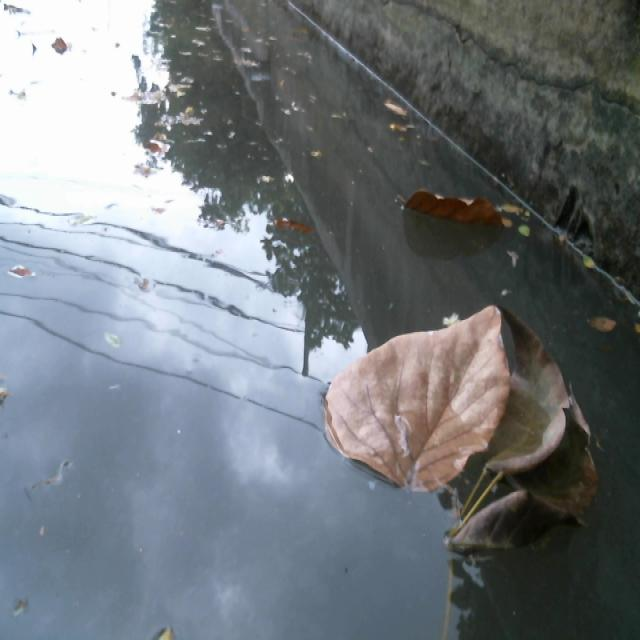Big-leaf: (305, 299, 600, 563), (395, 169, 512, 237)
Small-leaf: (379, 96, 431, 142), (258, 207, 322, 244), (580, 295, 625, 337), (580, 243, 610, 277), (142, 617, 182, 640), (8, 259, 44, 281), (518, 223, 534, 240)
